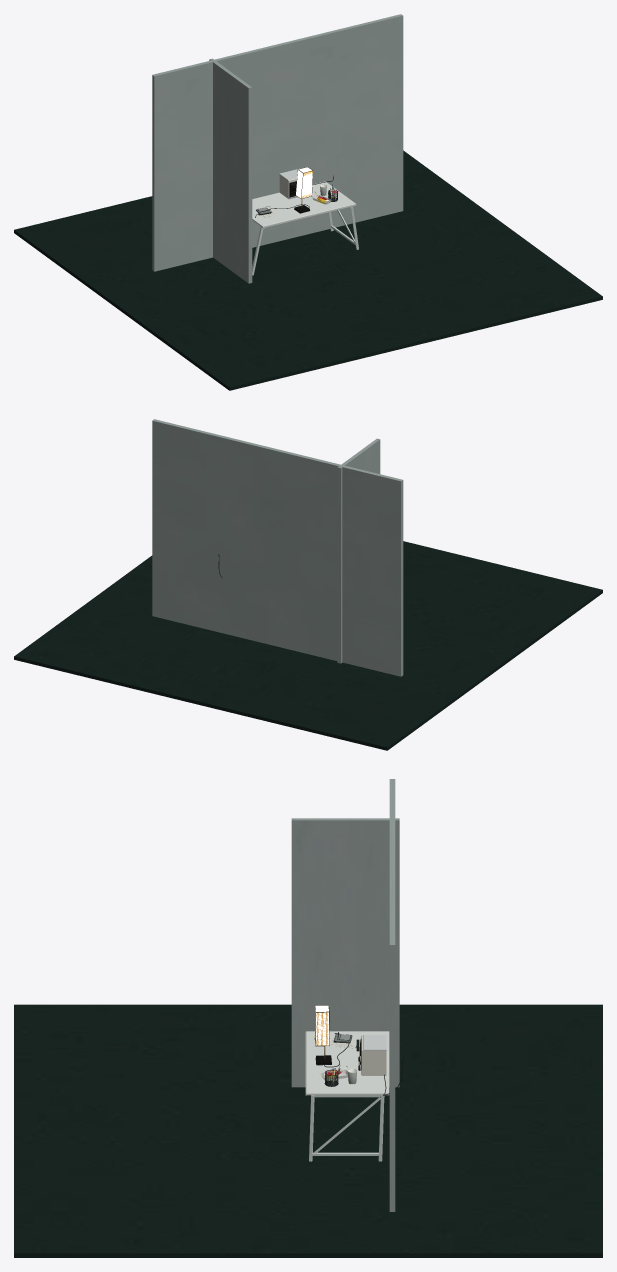
The model's file is codex.glb.
3 renders of one model, top to bottom at view 1: azimuth 30°, elevation 25°; view 2: azimuth 150°, elevation 25°; view 3: azimuth 270°, elevation 25°, orthographic. The views are drawn at different scales.
Visible parts, largest first — view 1: Carpet floor, Back wall, Left wall, Laminate tabletop; view 2: Carpet floor, Back wall, Left wall; view 3: Carpet floor, Left wall, Laminate tabletop, Back wall, Oven ivory shell.
Boxes of the visible parts, bbox=[...] form: Carpet floor: bbox=[14, 150, 602, 390]; Back wall: bbox=[152, 14, 403, 271]; Left wall: bbox=[209, 58, 252, 283]; Laminate tabletop: bbox=[252, 181, 355, 227]; Carpet floor: bbox=[14, 541, 602, 750]; Back wall: bbox=[152, 419, 403, 676]; Left wall: bbox=[337, 438, 380, 663]; Carpet floor: bbox=[14, 1004, 602, 1257]; Left wall: bbox=[291, 818, 399, 1087]; Laminate tabletop: bbox=[306, 1031, 389, 1095]; Back wall: bbox=[389, 779, 395, 1211]; Oven ivory shell: bbox=[361, 1035, 386, 1075].
Size of the model in its own units: 6 by 3.05 by 6.
47 materials, 9 textured.
